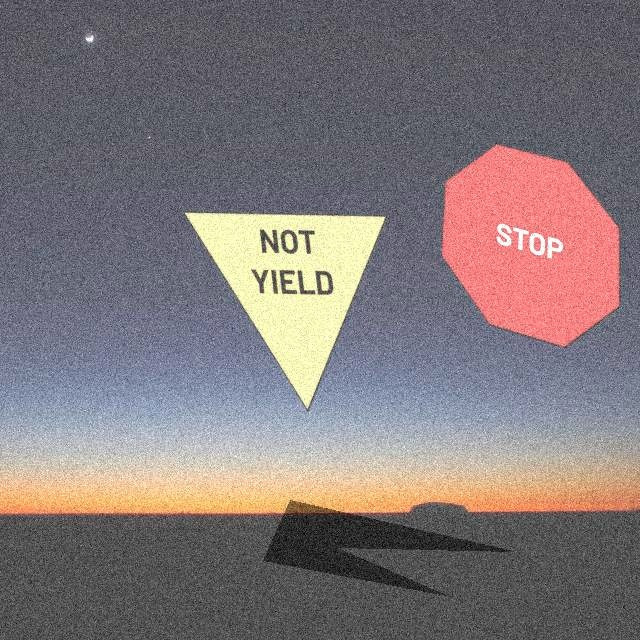NOT_YIELD: (182, 211, 388, 412)
STOP: (440, 143, 621, 349)
